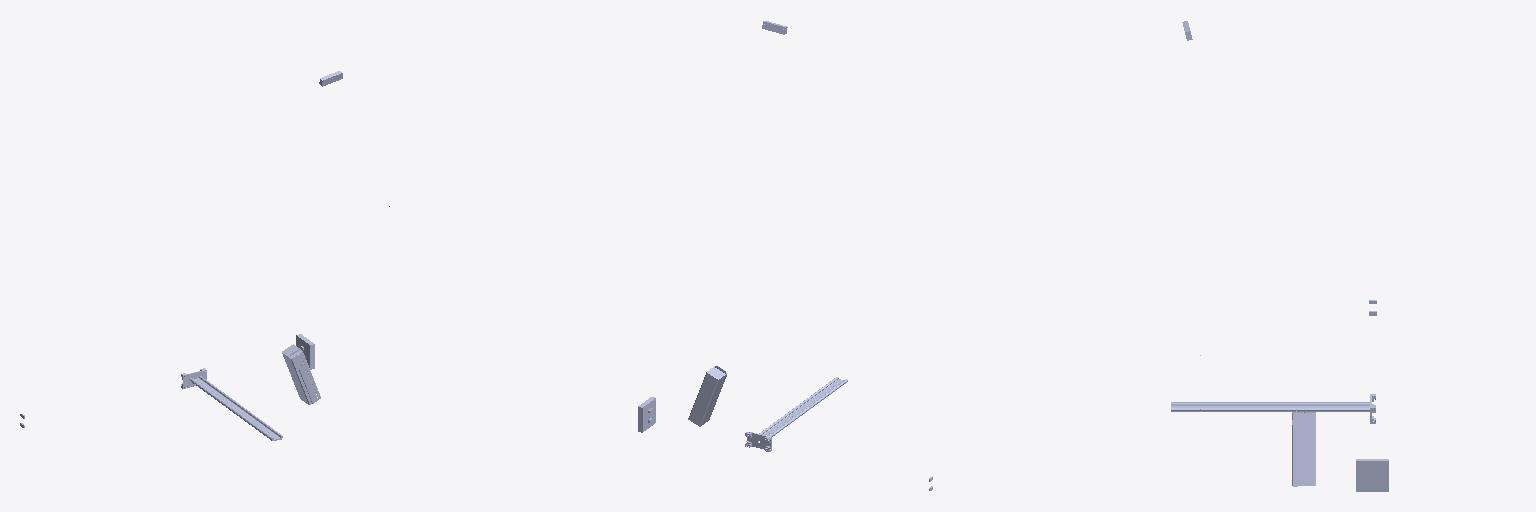
--- Facts derived from the render (not from the file) ---
Views: 3 orthographic renders of the robot side by side, from view 1: azimuth 30°, elevation 25°; view 2: azimuth 150°, elevation 25°; view 3: azimuth 270°, elevation 25°.
Model robo_description with 21 links and 20 joints (2 revolute, 2 prismatic, 16 fixed), rooted at base_link, posed all joints at 0 but 1 set to mid-range because 0 is outside their limits (joint5 = 0.4665).
Visible links, largest first — view 1: link2, link5; view 2: link2, link5, base_link; view 3: link2, link5, base_link.
Boxes of the visible links, bbox=[...] form: link2: bbox=[181, 368, 282, 440]; link5: bbox=[282, 344, 320, 404]; link2: bbox=[745, 377, 847, 451]; link5: bbox=[688, 365, 727, 426]; base_link: bbox=[638, 397, 932, 490]; link2: bbox=[1171, 394, 1375, 423]; link5: bbox=[1292, 409, 1315, 486]; base_link: bbox=[1356, 300, 1388, 491].
Bounding box of the posed robot: 1.65 × 0.657 × 1.48 m (x, y, z).
4 mesh visuals loaded from 6 distinct referenced files (4 binary STL); not drawn: 2 (reference not matched to a file when rendering).

URDF robot description (robo_description):
<?xml version="1.0" encoding="utf-8"?>
<!-- 25AUG2023 Changed the minimum limit of lJoint5 to 0.247 and max to 0.686 -->
<!-- This URDF was automatically created by SolidWorks to URDF Exporter! Originally created by Stephen Brawner ([email redacted]) 
     Commit Version: 1.6.0-4-g7f85cfe  Build Version: 1.6.7995.38578
     For more information, please see http://wiki.ros.org/sw_urdf_exporter -->
<robot
  name="robo_description">
  <link
    name="base_link">
    <inertial>
      <origin
        xyz="-5.13826234849775E-17 -1.63904738952765E-17 0.339473684210526"
        rpy="0 0 0" />
      <mass
        value="19" />
      <inertia
        ixx="2.34956140350877"
        ixy="1.11311423041845E-17"
        ixz="3.69215798456927E-16"
        iyy="2.34956140350877"
        iyz="-7.44985984223617E-17"
        izz="0.151666666666667" />
    </inertial>
    <visual>
      <origin
        xyz="0 0 0"
        rpy="0 0 0" />
      <geometry>
        <mesh
          filename="package://robo_description/meshes/base_link.STL" />
      </geometry>
      <material
        name="">
        <color
          rgba="0.792156862745098 0.819607843137255 0.933333333333333 1" />
      </material>
    </visual>
    <collision>
      <origin
        xyz="0 0 0"
        rpy="0 0 0" />
      <geometry>
        <mesh
          filename="package://robo_description/meshes/base_link.STL" />
      </geometry>
    </collision>
  </link>
  <link
    name="link2">
    <inertial>
      <origin
        xyz="-0.001261 -0.2858 0.14572"
        rpy="0 0 0" />
      <mass
        value="3.13280329013611" />
      <inertia
        ixx="0.0169430024052603"
        ixy="-0.00280446630124331"
        ixz="0.0223183329111622"
        iyy="0.162057682822749"
        iyz="0.000505061238040558"
        izz="0.161640952999751" />
    </inertial>
    <visual>
      <origin
        xyz="0 0 -1"
        rpy="0 0 0" />
      <geometry>
        <mesh
          filename="package://robo_description/meshes/link2.STL" />
      </geometry>
      <material
        name="">
        <color
          rgba="0.792156862745098 0.819607843137255 0.933333333333333 1" />
      </material>
    </visual>
    <collision>
      <origin
        xyz="0 0 0"
        rpy="0 0 0" />
      <geometry>
        <mesh
          filename="package://robo_description/meshes/link2.STL" />
      </geometry>
    </collision>
  </link>
  <joint
    name="joint2"
    type="prismatic">
    <origin
      xyz="0.0 0 1"
      rpy="0 0 0" />
    <parent
      link="base_link" />
    <child
      link="link2" />
    <axis
      xyz="0 0 1" />
    <limit
      lower="0"
      upper="1"
      effort="0"
      velocity="0" />
  </joint>
  <link
    name="link4">
    <inertial>
      <origin
        xyz="-0.000438554587764983 0.0620490502692163 -0.172885898172371"
        rpy="0 0 0" />
      <mass
        value="0.162146723185788" />
      <inertia
        ixx="0.00336616371871891"
        ixy="1.46811284877534E-06"
        ixz="-3.57096843523024E-06"
        iyy="0.00312866852492012"
        iyz="0.00048231220150353"
        izz="0.000338308018448651" />
    </inertial>
    <visual>
      <origin
        xyz="-0.4665 0 -0.790"
        rpy="0 0 0" />
      <geometry>
        <mesh
          filename="package://robo_description/meshes/link4.STL" />
      </geometry>
      <material
        name="">
        <color
          rgba="0.792156862745098 0.819607843137255 0.933333333333333 1" />
      </material>
    </visual>
    <collision>
      <origin
        xyz="0 0 0"
        rpy="0 0 0" />
      <geometry>
        <mesh
          filename="package://robo_description/meshes/link4.STL" />
      </geometry>
    </collision>
  </link>
  <joint
    name="joint4"
    type="revolute">
    <origin
      xyz="0.46904 0 -0.21"
      rpy="0 0 0" />
    <parent
      link="link2" />
    <child
      link="link4" />
    <axis
      xyz="0 0 1" />
    <limit
      lower="-2.9671"
      upper="2.9671"
      effort="0"
      velocity="0" />
  </joint>
  <link
    name="link3">
    <inertial>
      <origin
        xyz="-0.0832189655707039 -0.0894795892974461 -0.00179630042130147"
        rpy="0 0 0" />
      <mass
        value="1.71811977068641" />
      <inertia
        ixx="0.00948440583507882"
        ixy="-0.00159429497921182"
        ixz="0.00308193362516688"
        iyy="0.035537875179704"
        iyz="0.000648421421055908"
        izz="0.0305779645247813" />
    </inertial>
    <visual>
      <origin
        xyz="-0.468545 -0.078 -0.43528"
        rpy="0 0 0" />
      <geometry>
        <mesh
          filename="package://robo_description/meshes/link3.STL" />
      </geometry>
      <material
        name="">
        <color
          rgba="0.792156862745098 0.819607843137255 0.933333333333333 1" />
      </material>
    </visual>
    <collision>
      <origin
        xyz="0 0 0"
        rpy="0 0 0" />
      <geometry>
        <mesh
          filename="package://robo_description/meshes/link3.STL" />
      </geometry>
    </collision>
  </link>
  <joint
    name="joint3"
    type="revolute">
    <origin
      xyz="0.0 0.077824 -0.35472"
      rpy="0 0 0" />
    <parent
      link="link4" />
    <child
      link="link3" />
    <axis
      xyz="0 1 0" />
    <limit
      lower="-1.5708"
      upper="1.5708"
      effort="0"
      velocity="0" />
  </joint>
  <link
    name="yanthra_link">
    <inertial>
      <origin
        xyz="-0.0832189655707036 -0.0114795892974462 -0.00179630042130124"
        rpy="0 0 0" />
      <mass
        value="1.71811977068641" />
      <inertia
        ixx="0.00948440583507882"
        ixy="-0.00159429497921182"
        ixz="0.0030819336251669"
        iyy="0.035537875179704"
        iyz="0.000648421421055907"
        izz="0.0305779645247813" />
    </inertial>
    <visual>
      <origin
        xyz="0 0 0"
        rpy="0 0 0" />
      <geometry>
        <box size="0.001 0.001 0.001"/>
      </geometry>
      <material
        name="">
        <color
          rgba="0.792156862745098 0.819607843137255 0.933333333333333 1" />
      </material>
    </visual>
    <collision>
      <origin
        xyz="0 0 0"
        rpy="0 0 0" />
      <geometry>
        <box size="0.001 0.001 0.001"/>
      </geometry>
    </collision>
  </link>
  <joint
    name="yanthra_joint"
    type="fixed">
    <origin
      xyz="0 -0.078 0"
      rpy="0 0 0" />
    <parent
      link="link3" />
    <child
      link="yanthra_link" />
    <axis
      xyz="0 0 0" />
  </joint>
  <link
    name="link5_origin">
    <inertial>
      <origin
        xyz="-0.00874999999999998 0.0375 -0.00507843424240889"
        rpy="0 0 0" />
      <mass
        value="0.0438088883035136" />
      <inertia
        ixx="3.24913884800222E-05"
        ixy="1.33063310958086E-21"
        ixz="-8.470329472543E-22"
        iyy="3.99574478810853E-06"
        iyz="-3.38875204913906E-21"
        izz="3.07317223657389E-05" />
    </inertial>
    <visual>
      <origin
        xyz="0 0 0"
        rpy="0 0 0" />
      <geometry>
        <box size="0.001 0.001 0.001"/>
      </geometry>
      <material
        name="">
        <color
          rgba="0.792156862745098 0.819607843137255 0.933333333333333 1" />
      </material>
    </visual>
    <collision>
      <origin
        xyz="0 0 0"
        rpy="0 0 0" />
      <geometry>
        <box size="0.001 0.001 0.001"/>
      </geometry>
    </collision>
  </link>
  <joint
    name="link5_origin_joint"
    type="fixed">
    <origin
      xyz="0 0 0.0"
      rpy="0 0 0" />
    <parent	
      link="yanthra_link" />
    <child
      link="link5_origin" />
    <axis
      xyz="0 0 0" />
  </joint>
  <link
    name="link5">
    <inertial>
      <origin
        xyz="0.108132413871145 2.08242781028485E-06 0.00569147154470495"
        rpy="0 0 0" />
      <mass
        value="0.277404400359573" />
      <inertia
        ixx="0.00021628976171093"
        ixy="1.27900715148446E-06"
        ixz="-0.000135093187106687"
        iyy="0.00359200319167061"
        iyz="-8.36237914028336E-08"
        izz="0.00358633509004247" />
    </inertial>
    <visual>
      <origin
        xyz="-0.715545 0 -0.43528"
        rpy="0 0 0" />
      <geometry>
        <mesh
          filename="package://robo_description/meshes/link5.STL" />
      </geometry>
      <material
        name="">
        <color
          rgba="0.792156862745098 0.819607843137255 0.933333333333333 1" />
      </material>
    </visual>
    <collision>
      <origin
        xyz="0 0 0"
        rpy="0 0 0" />
      <geometry>
        <mesh
          filename="package://robo_description/meshes/link5.STL" />
      </geometry>
    </collision>
  </link>
  <joint
    name="joint5"
    type="prismatic">
    <origin
      xyz="0.0 0 0"
      rpy="0 0 0" />
    <parent
      link="link5_origin" />
    <child
      link="link5" />
    <axis
      xyz="1 0 0" />
    <limit
      lower="0.247"
      upper="0.686"
      effort="0"
      velocity="0" />
  </joint>
  <link
    name="ee_link">
    <inertial>
      <origin
        xyz="-0.00874999999999998 0.0375 -0.00507843424240889"
        rpy="0 0 0" />
      <mass
        value="0.0438088883035136" />
      <inertia
        ixx="3.24913884800222E-05"
        ixy="1.33063310958086E-21"
        ixz="-8.470329472543E-22"
        iyy="3.99574478810853E-06"
        iyz="-3.38875204913906E-21"
        izz="3.07317223657389E-05" />
    </inertial>
    <visual>
      <origin
        xyz="0 0 0"
        rpy="0 0 0" />
      <geometry>
        <box size="0.001 0.001 0.001"/>
      </geometry>
      <material
        name="">
        <color
          rgba="0.792156862745098 0.819607843137255 0.933333333333333 1" />
      </material>
    </visual>
    <collision>
      <origin
        xyz="0 0 0"
        rpy="0 0 0" />
      <geometry>
        <box size="0.001 0.001 0.001"/>
      </geometry>
    </collision>
  </link>
  <joint
    name="ee_joint"
    type="fixed">
    <origin
      xyz="-0.085 0 0"
      rpy="0 0 0" />
    <parent	
      link="link5" />
    <child
      link="ee_link" />
    <axis
      xyz="0 0 0" />
  </joint>
  <link
    name="aruco_marker_link">
    <inertial>
      <origin
        xyz="-0.00874999999999998 0.0375 -0.00507843424240889"
        rpy="0 0 0" />
      <mass
        value="0.0438088883035136" />
      <inertia
        ixx="3.24913884800222E-05"
        ixy="1.33063310958086E-21"
        ixz="-8.470329472543E-22"
        iyy="3.99574478810853E-06"
        iyz="-3.38875204913906E-21"
        izz="3.07317223657389E-05" />
    </inertial>
    <visual>
      <origin
        xyz="0 0 0"
        rpy="0 0 0" />
      <geometry>
        <box size="0.001 0.001 0.001"/>
      </geometry>
      <material
        name="">
        <color
          rgba="0.792156862745098 0.819607843137255 0.933333333333333 1" />
      </material>
    </visual>
    <collision>
      <origin
        xyz="0 0 0"
        rpy="0 0 0" />
      <geometry>
        <box size="0.001 0.001 0.001"/>
      </geometry>
    </collision>
  </link>
  <joint
    name="aruco_joint"
    type="fixed">
    <origin
      xyz="0.0 0 0.08"
      rpy="0 0 0" />
    <parent	
      link="ee_link" />
    <child
      link="aruco_marker_link" />
    <axis
      xyz="0 0 0" />
  </joint>
  <link
    name="aruco_link_1">
    <inertial>
      <origin
        xyz="-0.00874999999999998 0.0375 -0.00507843424240889"
        rpy="0 0 0" />
      <mass
        value="0.0438088883035136" />
      <inertia
        ixx="3.24913884800222E-05"
        ixy="1.33063310958086E-21"
        ixz="-8.470329472543E-22"
        iyy="3.99574478810853E-06"
        iyz="-3.38875204913906E-21"
        izz="3.07317223657389E-05" />
    </inertial>
    <visual>
      <origin
        xyz="0 0 0"
        rpy="0 0 0" />
      <geometry>
        <box size="0.001 0.001 0.001"/>
      </geometry>
      <material
        name="">
        <color
          rgba="0.792156862745098 0.819607843137255 0.933333333333333 1" />
      </material>
    </visual>
    <collision>
      <origin
        xyz="0 0 0"
        rpy="0 0 0" />
      <geometry>
        <box size="0.001 0.001 0.001"/>
      </geometry>
    </collision>
  </link>
  <joint
    name="aruco_joint_1"
    type="fixed">
    <origin
      xyz="0.0 0.04 0.04"
      rpy="0 0 0" />
    <parent	
      link="aruco_marker_link" />
    <child
      link="aruco_link_1" />
    <axis
      xyz="0 0 0" />
  </joint>
  <link
    name="aruco_link_2">
    <inertial>
      <origin
        xyz="-0.00874999999999998 0.0375 -0.00507843424240889"
        rpy="0 0 0" />
      <mass
        value="0.0438088883035136" />
      <inertia
        ixx="3.24913884800222E-05"
        ixy="1.33063310958086E-21"
        ixz="-8.470329472543E-22"
        iyy="3.99574478810853E-06"
        iyz="-3.38875204913906E-21"
        izz="3.07317223657389E-05" />
    </inertial>
    <visual>
      <origin
        xyz="0 0 0"
        rpy="0 0 0" />
      <geometry>
        <box size="0.001 0.001 0.001"/>
      </geometry>
      <material
        name="">
        <color
          rgba="0.792156862745098 0.819607843137255 0.933333333333333 1" />
      </material>
    </visual>
    <collision>
      <origin
        xyz="0 0 0"
        rpy="0 0 0" />
      <geometry>
        <box size="0.001 0.001 0.001"/>
      </geometry>
    </collision>
  </link>
  <joint
    name="aruco_joint_2"
    type="fixed">
    <origin
      xyz="0.0 -0.04 0.04"
      rpy="0 0 0" />
    <parent	
      link="aruco_marker_link" />
    <child
      link="aruco_link_2" />
    <axis
      xyz="0 0 0" />
  </joint>
  <link
    name="aruco_link_3">
    <inertial>
      <origin
        xyz="-0.00874999999999998 0.0375 -0.00507843424240889"
        rpy="0 0 0" />
      <mass
        value="0.0438088883035136" />
      <inertia
        ixx="3.24913884800222E-05"
        ixy="1.33063310958086E-21"
        ixz="-8.470329472543E-22"
        iyy="3.99574478810853E-06"
        iyz="-3.38875204913906E-21"
        izz="3.07317223657389E-05" />
    </inertial>
    <visual>
      <origin
        xyz="0 0 0"
        rpy="0 0 0" />
      <geometry>
        <box size="0.001 0.001 0.001"/>
      </geometry>
      <material
        name="">
        <color
          rgba="0.792156862745098 0.819607843137255 0.933333333333333 1" />
      </material>
    </visual>
    <collision>
      <origin
        xyz="0 0 0"
        rpy="0 0 0" />
      <geometry>
        <box size="0.001 0.001 0.001"/>
      </geometry>
    </collision>
  </link>
  <joint
    name="aruco_joint_3"
    type="fixed">
    <origin
      xyz="0.0 0.04 -0.04"
      rpy="0 0 0" />
    <parent	
      link="aruco_marker_link" />
    <child
      link="aruco_link_3" />
    <axis
      xyz="0 0 0" />
  </joint>
  <link
    name="aruco_link_4">
    <inertial>
      <origin
        xyz="-0.00874999999999998 0.0375 -0.00507843424240889"
        rpy="0 0 0" />
      <mass
        value="0.0438088883035136" />
      <inertia
        ixx="3.24913884800222E-05"
        ixy="1.33063310958086E-21"
        ixz="-8.470329472543E-22"
        iyy="3.99574478810853E-06"
        iyz="-3.38875204913906E-21"
        izz="3.07317223657389E-05" />
    </inertial>
    <visual>
      <origin
        xyz="0 0 0"
        rpy="0 0 0" />
      <geometry>
        <box size="0.001 0.001 0.001"/>
      </geometry>
      <material
        name="">
        <color
          rgba="0.792156862745098 0.819607843137255 0.933333333333333 1" />
      </material>
    </visual>
    <collision>
      <origin
        xyz="0 0 0"
        rpy="0 0 0" />
      <geometry>
        <box size="0.001 0.001 0.001"/>
      </geometry>
    </collision>
  </link>
  <joint
    name="aruco_joint_4"
    type="fixed">
    <origin
      xyz="0.0 -0.04 -0.04"
      rpy="0 0 0" />
    <parent	
      link="aruco_marker_link" />
    <child
      link="aruco_link_4" />
    <axis
      xyz="0 0 0" />
  </joint>
  <link
    name="link7">
    <inertial>
      <origin
        xyz="-0.00129487747822488 -0.0114795892973884 0.11996423535158"
        rpy="0 0 0" />
      <mass
        value="1.71811977068641" />
      <inertia
        ixx="0.0113386071435481"
        ixy="-0.00171490439294498"
        ixz="-0.00672100859249017"
        iyy="0.0355378751797041"
        iyz="-0.0001460470577602"
        izz="0.0287237632163119" />
    </inertial>
    <visual>
      <origin
        xyz="0 0 0"
        rpy="0 0 0" />
      <geometry>
        <box size="0.001 0.001 0.001"/>
      </geometry>
      <material
        name="">
        <color
          rgba="0.792156862745098 0.819607843137255 0.933333333333333 1" />
      </material>
    </visual>
    <collision>
      <origin
        xyz="0 0 0"
        rpy="0 0 0" />
      <geometry>
        <box size="0.001 0.001 0.001"/>
      </geometry>
    </collision>
  </link>
  <joint
    name="joint7"
    type="fixed">
    <origin
      xyz="0.47229 -0.069971 0.80411"
      rpy="0 0.785398 -1.5708" />
    <parent
      link="base_link"/>
    <child
      link="link7"/>
    <axis
      xyz="0 0 0" />
  </joint>
  <link
    name="camera_mount_link">
    <inertial>
      <origin
        xyz="-0.00129487747822488 -0.0114795892973883 0.11996423535158"
        rpy="0 0 0" />
      <mass
        value="1.71811977068641" />
      <inertia
        ixx="0.0113386071435481"
        ixy="-0.00171490439294498"
        ixz="-0.00672100859249018"
        iyy="0.0355378751797041"
        iyz="-0.000146047057760202"
        izz="0.0287237632163119" />
    </inertial>
    <visual>
      <origin
        xyz="0 0 0"
        rpy="0 0 0" />
      <geometry>
        <box size="0.001 0.001 0.001"/>
      </geometry>
      <material
        name="">
        <color
          rgba="0.792156862745098 0.819607843137255 0.933333333333333 1" />
      </material>
    </visual>
    <collision>
      <origin
        xyz="0 0 0"
        rpy="0 0 0" />
      <geometry>
        <box size="0.001 0.001 0.001"/>
      </geometry>
    </collision>
  </link>
     <!--Realsense Camera depth is 20 mm from back to glass, But the depth start point(GROUND ZERO REFERENCE i.e depth is Zero) is 1.1 mm behind glass-->
     <!--Camera thickness-Zero Ref +Plate thick=20-1.1+2 = 20.09 mm -->
     <!-- xyz="0.0209 -0.0375 0"-->
  <joint
    name="camera_mount_joint"
    type="fixed">
    <origin
      xyz="0.02090 -0.0375 0"
      rpy="-1.5708 0 -1.5708" />
    <parent
      link="link7" />
    <child
      link="camera_mount_link" />
    <axis
      xyz="0 0 0" />
  </joint>
  <link
    name="virtual_cam_link">
    <inertial>
      <origin
        xyz="-0.00874999999999998 0.0375 -0.00507843424240889"
        rpy="0 0 0" />
      <mass
        value="0.0438088883035136" />
      <inertia
        ixx="3.24913884800222E-05"
        ixy="1.33063310958086E-21"
        ixz="-8.470329472543E-22"
        iyy="3.99574478810853E-06"
        iyz="-3.38875204913906E-21"
        izz="3.07317223657389E-05" />
    </inertial>
    <visual>
      <origin
        xyz="0 0 0"
        rpy="0 0 0" />
      <geometry>
        <box size="0.001 0.001 0.001"/>
      </geometry>
      <material
        name="">
        <color
          rgba="0.792156862745098 0.819607843137255 0.933333333333333 1" />
      </material>
    </visual>
    <collision>
      <origin
        xyz="0 0 0"
        rpy="0 0 0" />
      <geometry>
        <box size="0.001 0.001 0.001"/>
      </geometry>
    </collision>
  </link>
  <joint
    name="virtual_cam_link_joint"
    type="fixed">
    <origin
      xyz="0 0 0"
      rpy="0 0 0" />
    <parent	
      link="camera_mount_link" />
    <child
      link="virtual_cam_link" />
    <axis
      xyz="0 0 0" />
  </joint>

  <link
    name="camera_link">
    <inertial>
      <origin
        xyz="-0.00874999999999998 0.0375 -0.00507843424240889"
        rpy="0 0 0" />
      <mass
        value="0.0438088883035136" />
      <inertia
        ixx="3.24913884800222E-05"
        ixy="1.33063310958086E-21"
        ixz="-8.470329472543E-22"
        iyy="3.99574478810853E-06"
        iyz="-3.38875204913906E-21"
        izz="3.07317223657389E-05" />
    </inertial>
    <visual>
      <origin
        xyz="-0.03768 -0.425 -0.175"
        rpy="0 -2.04 -1.5708" />
      <geometry>
        <mesh
          filename="package://robo_description/meshes/camera_link.STL" />
      </geometry>
      <material
        name="">
        <color
          rgba="0.792156862745098 0.819607843137255 0.933333333333333 1" />
      </material>
    </visual>
    <collision>
      <origin
        xyz="0 0 0"
        rpy="0 0 0" />
      <geometry>
        <mesh
          filename="package://robo_description/meshes/camera_link.STL" />
      </geometry>
    </collision>
  </link>
  <joint
    name="camera_link_joint"
    type="fixed">
    <origin
      xyz="0.0131477 0.0198271 -0.0429433"
      rpy="0.257645 -0.119186 -0.00952485" />
    <parent
      link="virtual_cam_link" />
    <child
      link="camera_link" />
    <axis
      xyz="0 0 0" />
  </joint>

  <link name="camera_depth_frame">

    <visual>

    <origin xyz="0 0 0" rpy="0 0 0" />

      <geometry>

        <box size="0.001 0.001 0.001"/>

      </geometry>

    </visual>

  </link>

  <joint name="camera_depth_frame_joint" type="fixed">

    <origin rpy="0 0 0" xyz="0 0 0"/>

    <parent link="camera_link"/>

    <child link="camera_depth_frame"/>

  </joint>

  <link name="camera_depth_optical_frame">

    <visual>

    <origin xyz="0 0 0" rpy="0 0 0" />

      <geometry>

        <box size="0.001 0.001 0.001"/>

      </geometry>

    </visual>

  </link>

  <joint name="camera_depth_optical_frame_joint" type="fixed">

   <origin rpy="0 0 0" xyz="0 0 0"/>

   <parent link="camera_depth_frame"/>

   <child link="camera_depth_optical_frame"/>

  </joint>

  <link name="camera_color_frame">

    <visual>

    <origin xyz="0 0 0" rpy="0 0 0" />

      <geometry>

        <box size="0.001 0.001 0.001"/>

      </geometry>

    </visual>

  </link>

  <joint name="camera_color_frame_joint" type="fixed">

    <origin rpy="0 0 0" xyz="0 0 0"/>

    <parent link="camera_link"/>

    <child link="camera_color_frame"/>

  </joint>

  <link name="camera_color_optical_frame">

    <visual>

    <origin xyz="0 0 0" rpy="0 0 0" />

      <geometry>

        <box size="0.001 0.001 0.001"/>

      </geometry>

    </visual>

  </link>

  <joint name="camera_color_optical_frame_joint" type="fixed">

   <origin rpy="0 0 0" xyz="0 0 0"/>

   <parent link="camera_color_frame"/>

   <child link="camera_color_optical_frame"/>

  </joint>
  <gazebo reference="stand">

    <material>Gazebo/Grey</material>

  </gazebo>

  <gazebo reference="link3">

    <material>Gazebo/Green</material>

  </gazebo>

  <gazebo reference="link4">

    <material>Gazebo/Red</material>

  </gazebo>

  <gazebo reference="link5">

    <material>Gazebo/Green</material>

  </gazebo>

  <gazebo reference="link9">

    <material>Gazebo/Red</material>

  </gazebo>

  <gazebo reference="link6">

    <material>Gazebo/White</material>

  </gazebo>

  <transmission name="tran1">

    <type>transmission_interface/SimpleTransmission</type>

    <joint name="joint3">

      <hardwareInterface>hardware_interface/PositionJointInterface</hardwareInterface>

    </joint>

    <actuator name="motor1">

      <hardwareInterface>hardware_interface/PositionJointInterface</hardwareInterface>

      <mechanicalReduction>1</mechanicalReduction>

    </actuator>

  </transmission>

  <transmission name="tran1">

    <type>transmission_interface/SimpleTransmission</type>

    <joint name="joint4">

      <hardwareInterface>hardware_interface/PositionJointInterface</hardwareInterface>

    </joint>

    <actuator name="motor1">

      <hardwareInterface>hardware_interface/PositionJointInterface</hardwareInterface>

      <mechanicalReduction>1</mechanicalReduction>

    </actuator>

  </transmission>

  <transmission name="tran1">

    <type>transmission_interface/SimpleTransmission</type>

    <joint name="joint5">

      <hardwareInterface>hardware_interface/PositionJointInterface</hardwareInterface>

    </joint>

    <actuator name="motor1">

      <hardwareInterface>hardware_interface/PositionJointInterface</hardwareInterface>

      <mechanicalReduction>1</mechanicalReduction>

    </actuator>

  </transmission>

  <gazebo>

    <plugin filename="libgazebo_ros_control.so" name="gazebo_ros_control">

      <robotNameSpace>/arm_controller</robotNameSpace>

    </plugin>

  </gazebo>

</robot>
